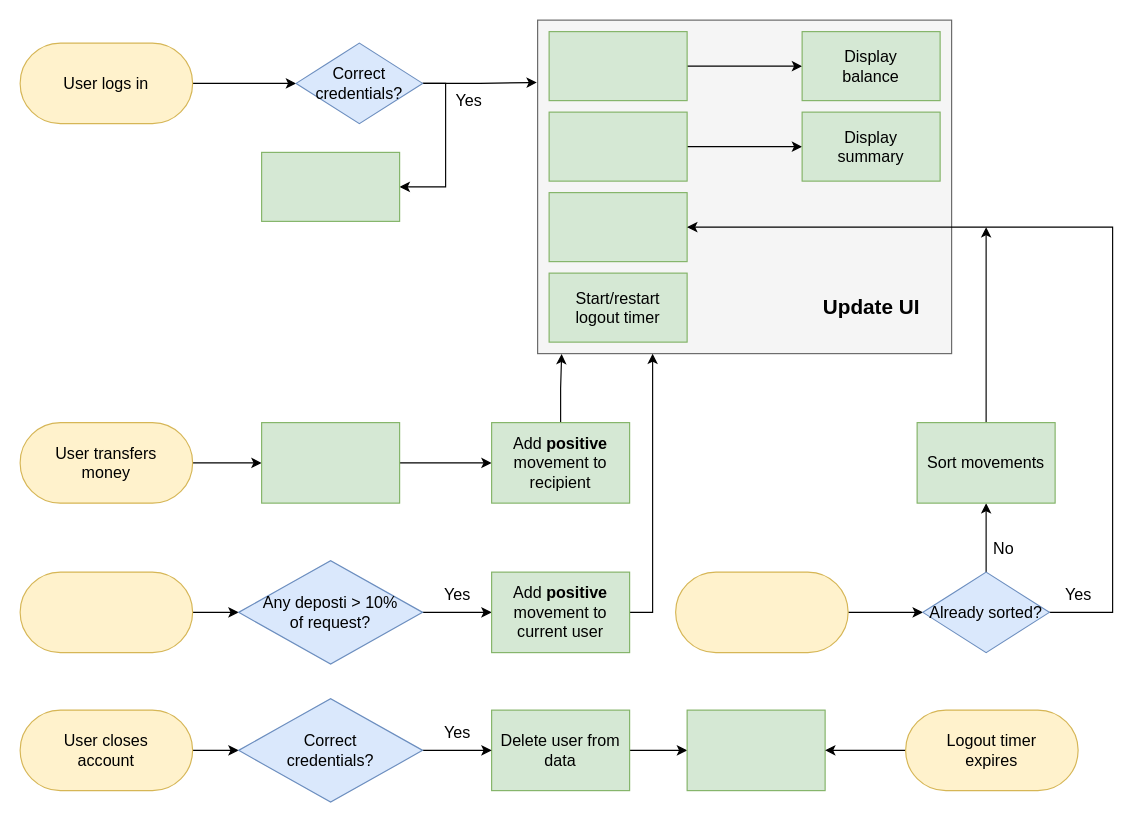
The diagram is 1142 pixels wide and 822 high, and some of its shapes have lost their labels. The box of each missing label's shape, as (x1, y1, x2, y2) in pixels:
Add negative movement to current user: (260, 421, 400, 503)
Calculate balance: (548, 30, 687, 101)
Calculate summary: (548, 111, 687, 181)
Display movements: (548, 191, 687, 262)
Display UI and welcome message: (260, 151, 400, 221)
Log user out (hide UI): (686, 709, 825, 791)
User requests loan: (19, 571, 193, 653)
User sorts movements: (674, 571, 848, 653)
